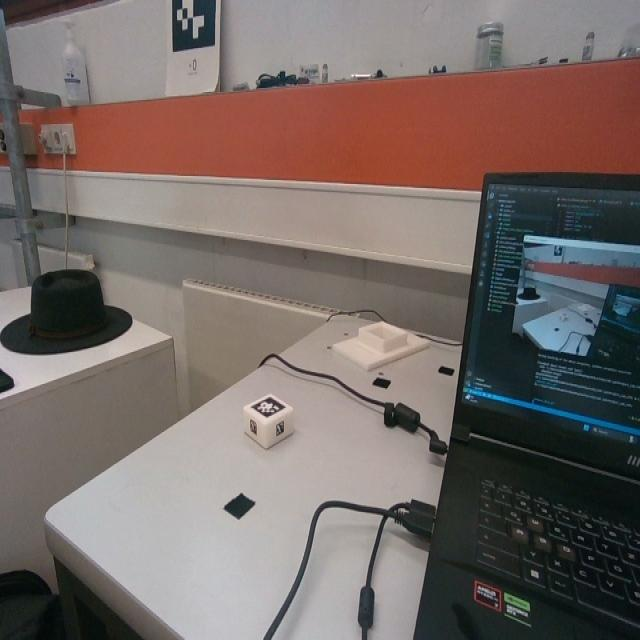Cube: (242, 392, 293, 448)
